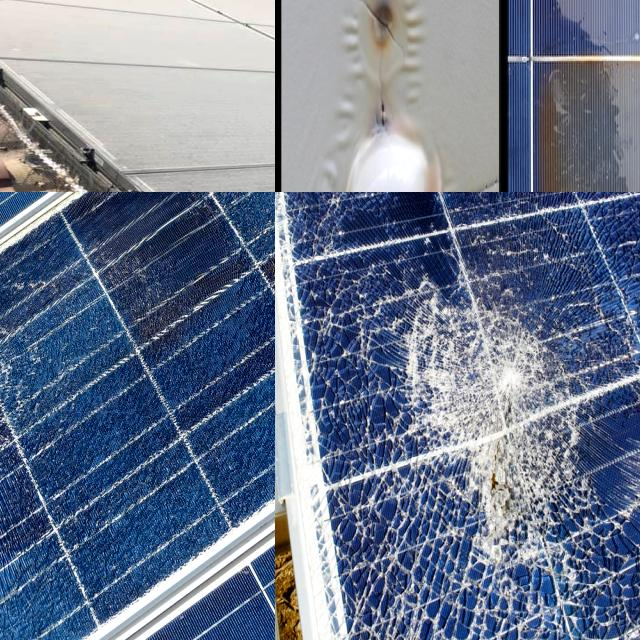dust: (1, 4, 260, 70), (101, 86, 275, 160)
hotspot: (398, 269, 574, 574), (364, 610, 586, 640), (622, 479, 640, 630)
shadow: (530, 17, 640, 192), (303, 0, 494, 97), (275, 0, 328, 192), (356, 0, 414, 83), (275, 0, 317, 93)
